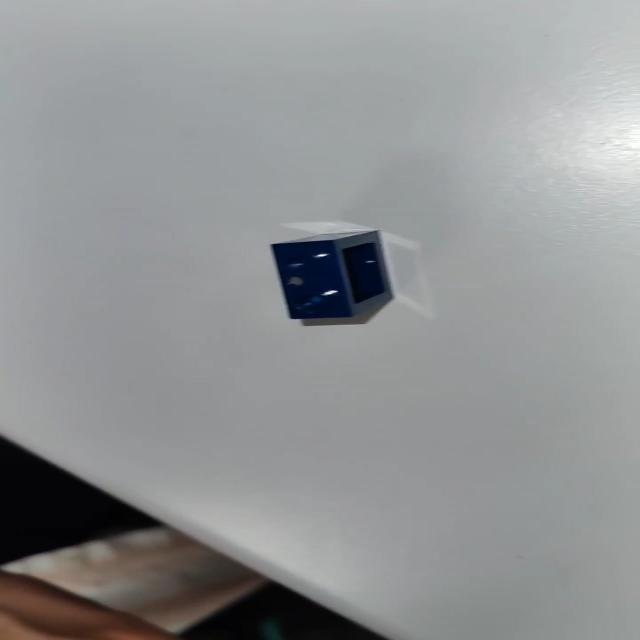W2x1x2: (267, 228, 395, 324)
